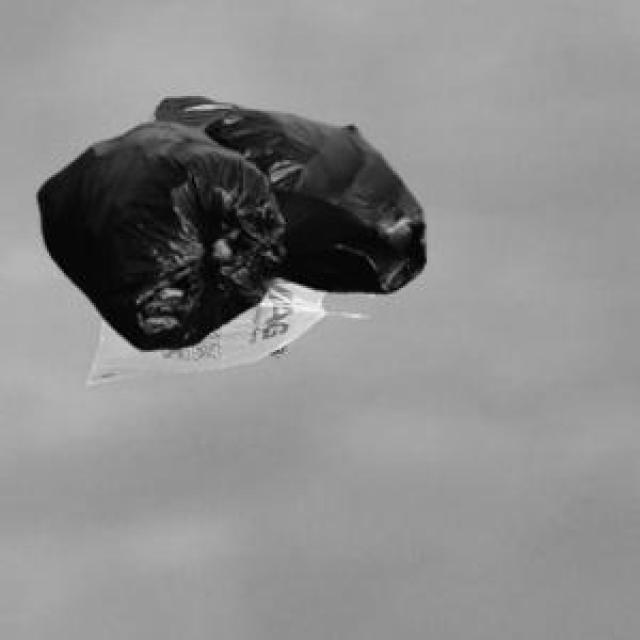miscellaneous trash: (34, 107, 422, 346), (145, 92, 243, 128)
